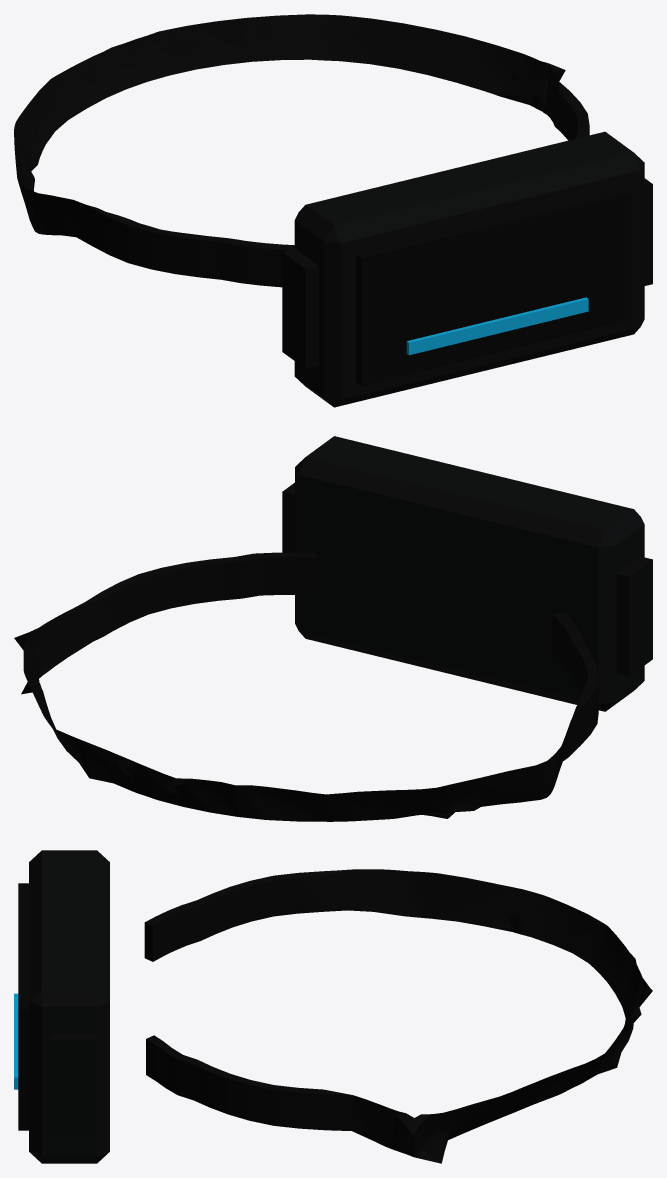
The model's file is eyes_vr_male_hi.glb.
The picture shows the model from 3 angles, top to bottom: view 1: azimuth 30°, elevation 25°; view 2: azimuth 150°, elevation 25°; view 3: azimuth 270°, elevation 25°; orthographic projection. The views are drawn at different scales.
Visible parts, largest first — view 1: eyes_vr_v5_male; view 2: eyes_vr_v5_male; view 3: eyes_vr_v5_male.
Part boxes in pixels (x1,y1,x2,y2): eyes_vr_v5_male: (14,14,652,407); eyes_vr_v5_male: (14,436,652,821); eyes_vr_v5_male: (14,850,652,1163).
Size of the model in its own units: 0.5517 by 0.1778 by 0.5929.
